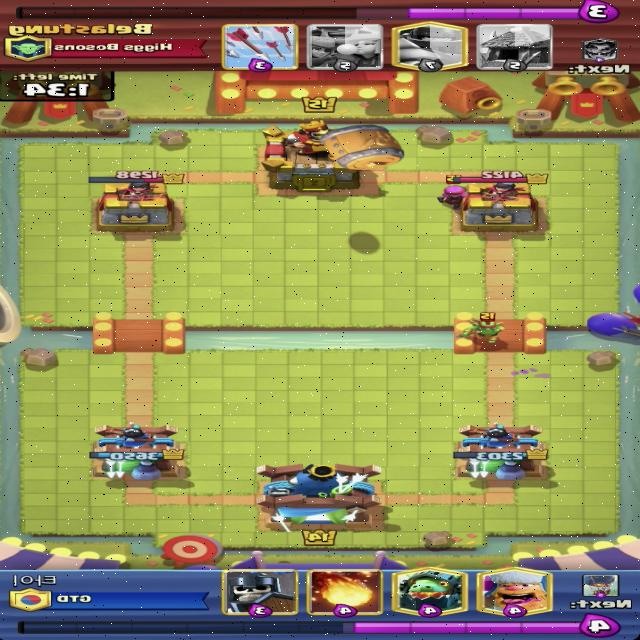Enemy-Firecracker: (434, 175, 477, 210)
Enemy-GoblinBarrel: (321, 124, 405, 170)
Enemy-SpearGoblin: (455, 312, 503, 346)
